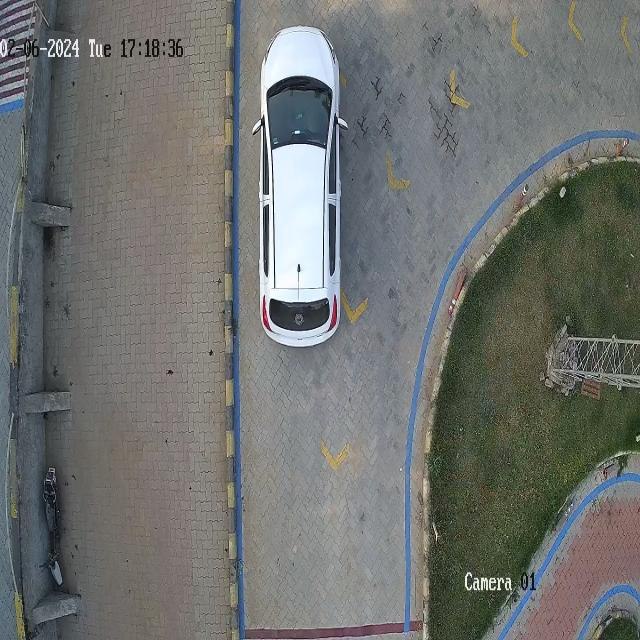car: (252, 27, 345, 347)
